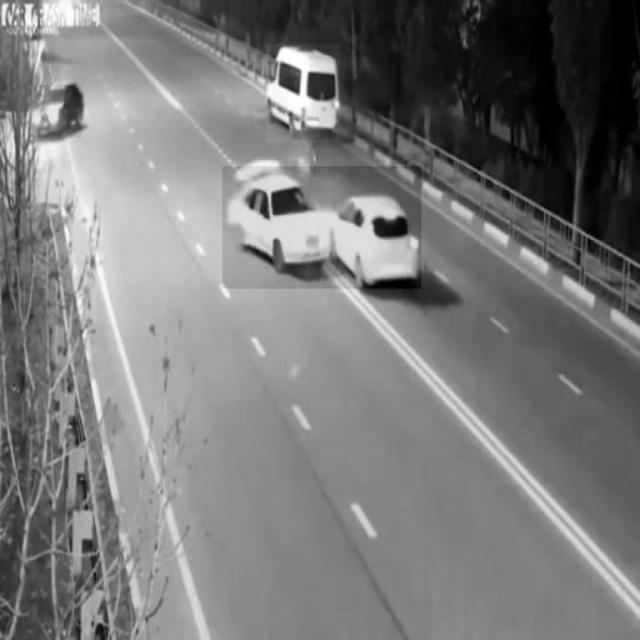accident: (223, 166, 421, 288)
vehicle: (267, 44, 340, 142), (32, 85, 82, 137)
